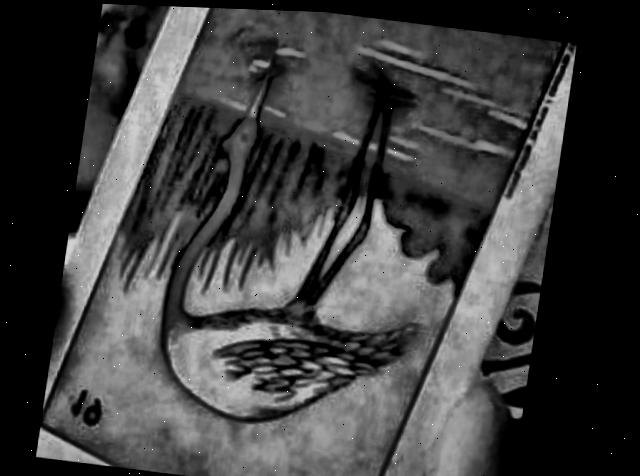El Garza: (48, 6, 564, 476)
